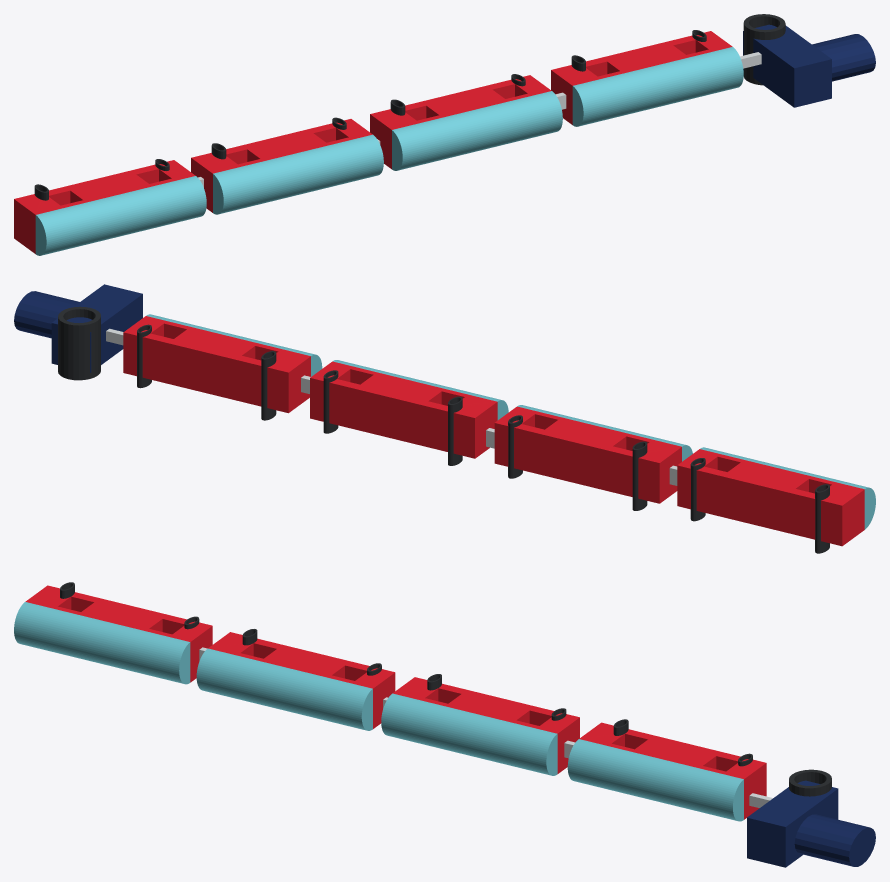
Rendered from tinker.obj.
3 renders of one model, top to bottom at view 1: azimuth 30°, elevation 25°; view 2: azimuth 150°, elevation 25°; view 3: azimuth 330°, elevation 25°, orthographic. The views are drawn at different scales.
Parts seen in each view (by area): view 1: group_0_7720667, group_0_15277357, group_0_1650274, group_0_2829873; view 2: group_0_15277357, group_0_2829873, group_0_1650274, group_0_7720667, group_0_14541540; view 3: group_0_7720667, group_0_15277357, group_0_1650274, group_0_2829873.
Boxes of the visible parts, left/top/right/bottom form: group_0_7720667: left=35, top=47, right=743, bottom=255; group_0_15277357: left=14, top=31, right=732, bottom=253; group_0_1650274: left=743, top=24, right=875, bottom=107; group_0_2829873: left=34, top=14, right=785, bottom=200; group_0_15277357: left=123, top=316, right=864, bottom=546; group_0_2829873: left=58, top=306, right=829, bottom=553; group_0_1650274: left=14, top=284, right=142, bottom=372; group_0_7720667: left=146, top=314, right=875, bottom=529; group_0_14541540: left=106, top=328, right=677, bottom=485; group_0_7720667: left=14, top=602, right=743, bottom=821; group_0_15277357: left=25, top=585, right=766, bottom=819; group_0_1650274: left=747, top=780, right=875, bottom=867; group_0_2829873: left=60, top=582, right=831, bottom=796.
Bounding box in the file's own units: 435 × 32 × 52.
